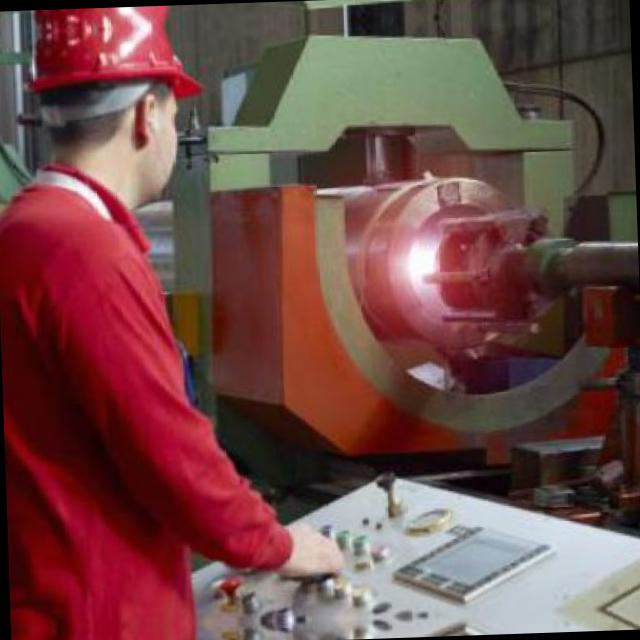helmet: (5, 27, 215, 206)
